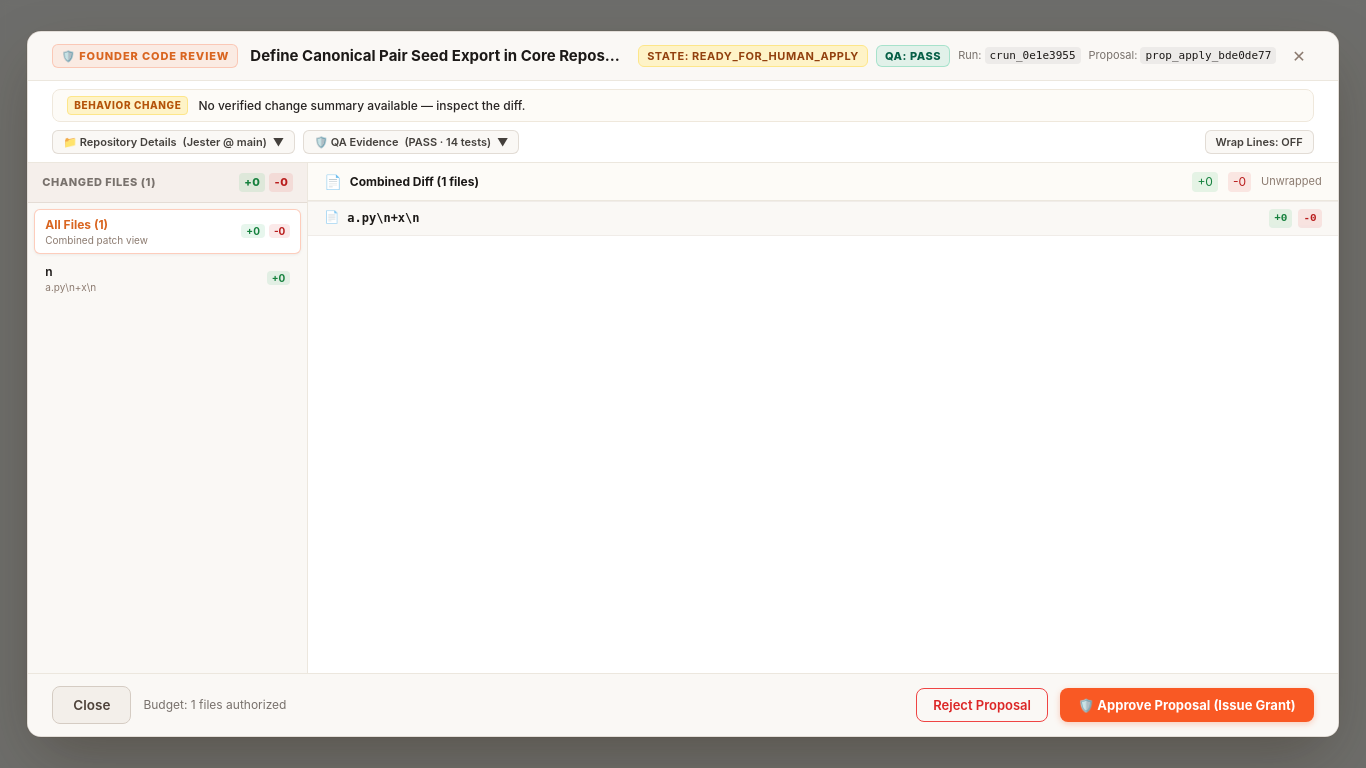
Test case: STEP 21 — Jester AI Company Control Center Tests › 25. STEP 22G: Collapsible repository details and QA evidence drawers expand on demand
The image size is (1366, 768).
# Toggle Repo Details
Click the button with test id "toggle-repo-details-btn". click: (174, 142)
box: 52,130 -> 295,154
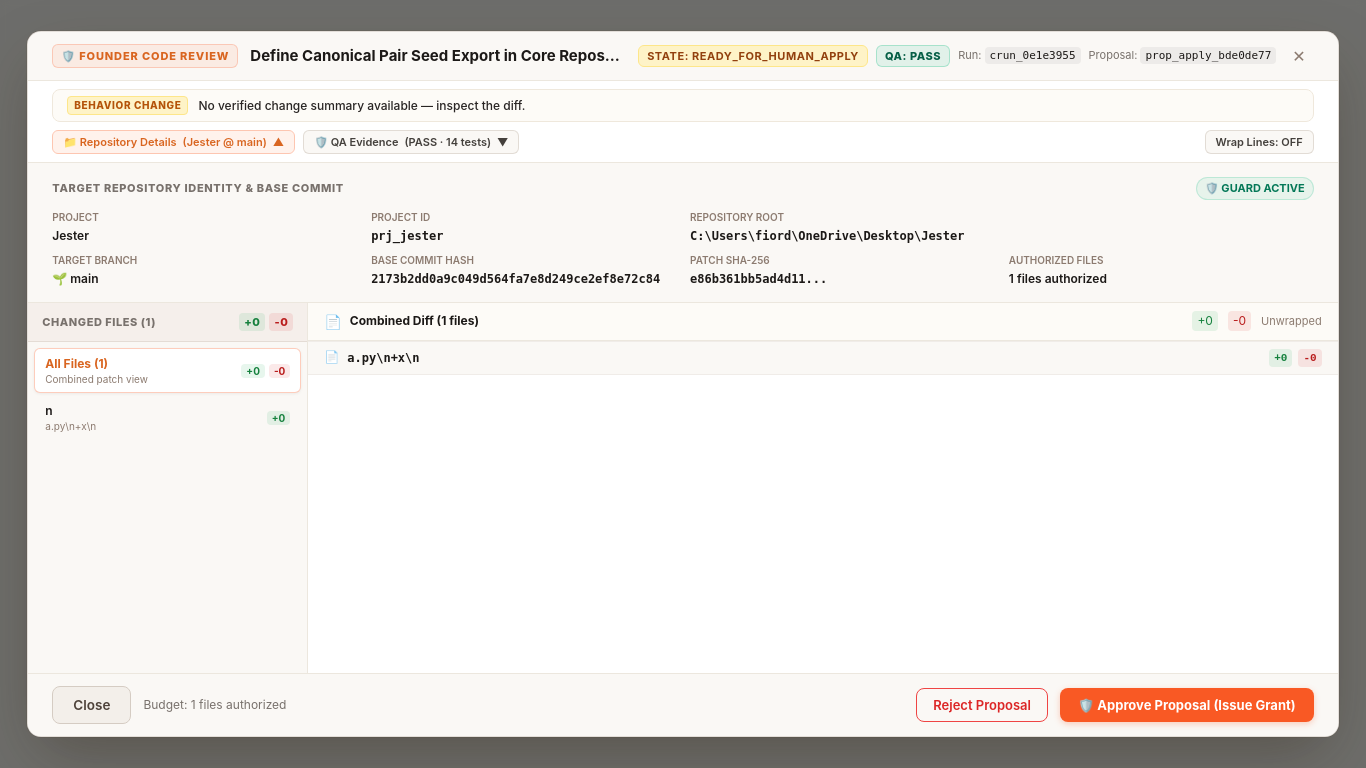
Result: the element with test id "repo-details-drawer" is shown at 28,163 -> 1338,303
Result: the text "Base Commit Hash" is shown at 371,254 -> 474,266
# Toggle QA Evidence
Click the button with test id "toggle-qa-evidence-btn". click: (411, 142)
box: 303,130 -> 520,154
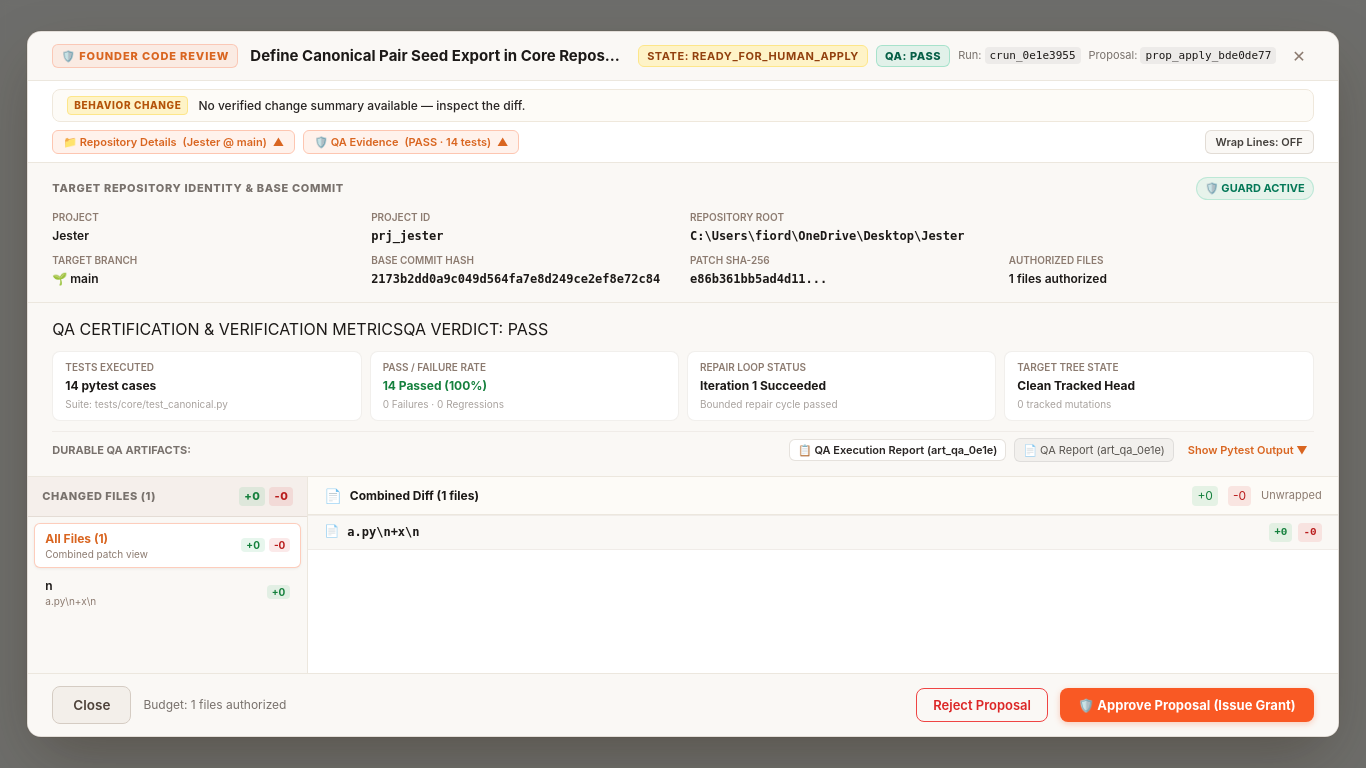
Result: the element with test id "qa-evidence-drawer" is shown at 28,303 -> 1338,477
# Close drawers
Click the button with test id "toggle-repo-details-btn". click: (174, 142)
box: 52,130 -> 295,154
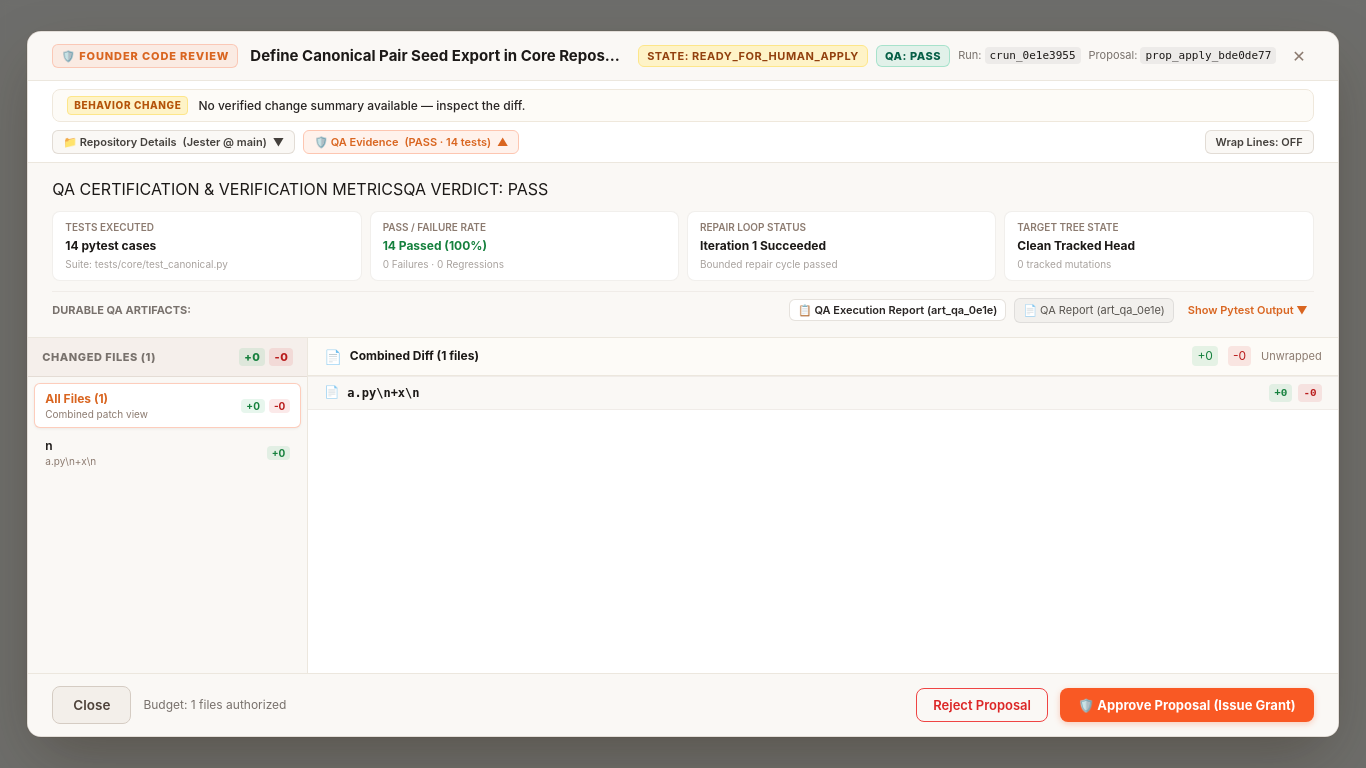
Result: the element with test id "repo-details-drawer" is gone
